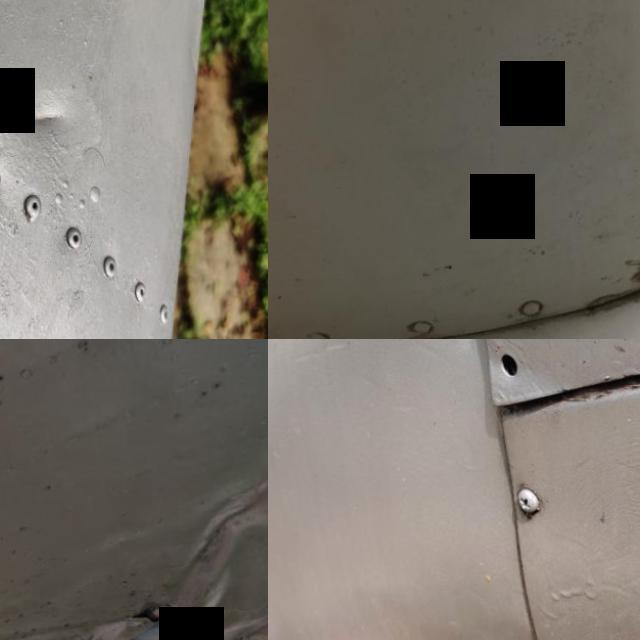Crack: (567, 219, 640, 330), (152, 596, 188, 621)
Dent: (165, 400, 268, 612), (0, 70, 94, 162), (198, 572, 268, 640)
Missing_Fastener: (467, 339, 542, 401)
